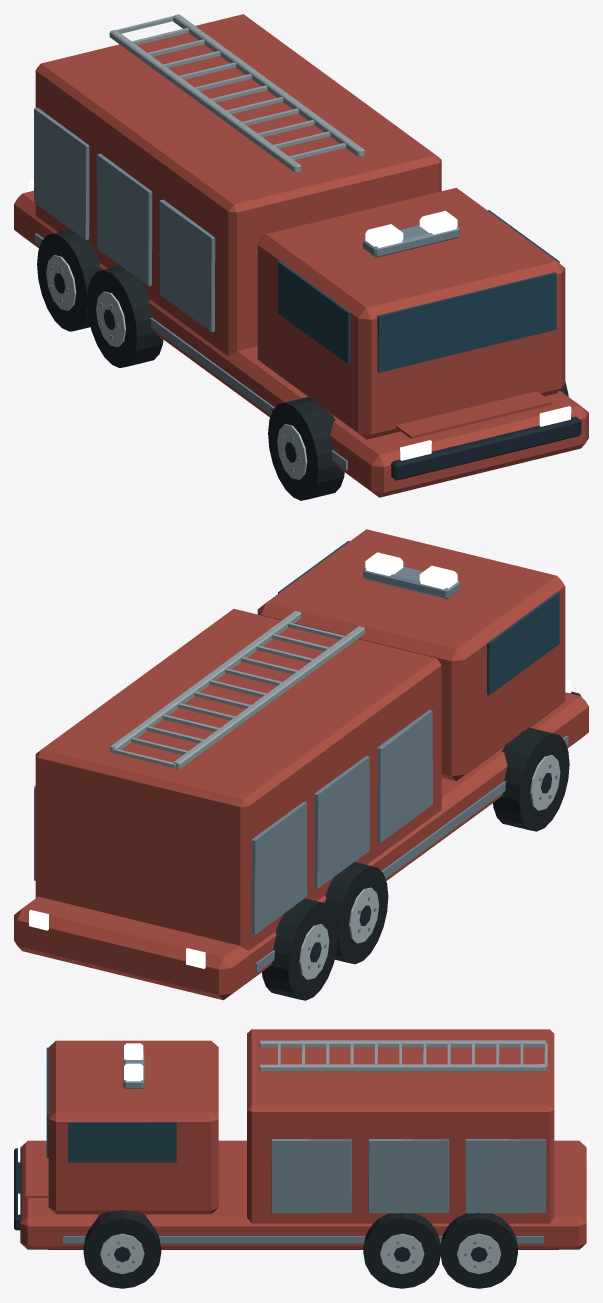
Rendered from road-fire-engine.lod1.glb.
3 views of the same model, one above another, from view 1: azimuth 30°, elevation 25°; view 2: azimuth 150°, elevation 25°; view 3: azimuth 270°, elevation 25° (orthographic). The views are drawn at different scales.
Visible parts, largest first — view 1: road-fire-engine__body, road-fire-engine__wheel_steer_0_l, road-fire-engine__wheel_steer_2_l, road-fire-engine__wheel_steer_1_l; view 2: road-fire-engine__body, road-fire-engine__wheel_steer_0_l, road-fire-engine__wheel_steer_1_l, road-fire-engine__wheel_steer_2_l; view 3: road-fire-engine__body, road-fire-engine__wheel_steer_0_r, road-fire-engine__wheel_steer_2_r, road-fire-engine__wheel_steer_1_r.
Part boxes in pixels (bbox=[...]): road-fire-engine__body: bbox=[14, 14, 588, 497]; road-fire-engine__wheel_steer_0_l: bbox=[268, 397, 344, 500]; road-fire-engine__wheel_steer_2_l: bbox=[87, 266, 163, 367]; road-fire-engine__wheel_steer_1_l: bbox=[37, 229, 99, 331]; road-fire-engine__body: bbox=[14, 529, 588, 1000]; road-fire-engine__wheel_steer_0_l: bbox=[493, 727, 569, 831]; road-fire-engine__wheel_steer_1_l: bbox=[262, 898, 338, 1000]; road-fire-engine__wheel_steer_2_l: bbox=[325, 862, 388, 964]; road-fire-engine__body: bbox=[14, 1029, 588, 1249]; road-fire-engine__wheel_steer_0_r: bbox=[83, 1210, 161, 1288]; road-fire-engine__wheel_steer_2_r: bbox=[363, 1213, 440, 1288]; road-fire-engine__wheel_steer_1_r: bbox=[440, 1213, 517, 1288].
Size of the model in its own units: 2.85 by 2.57 by 7.11.
